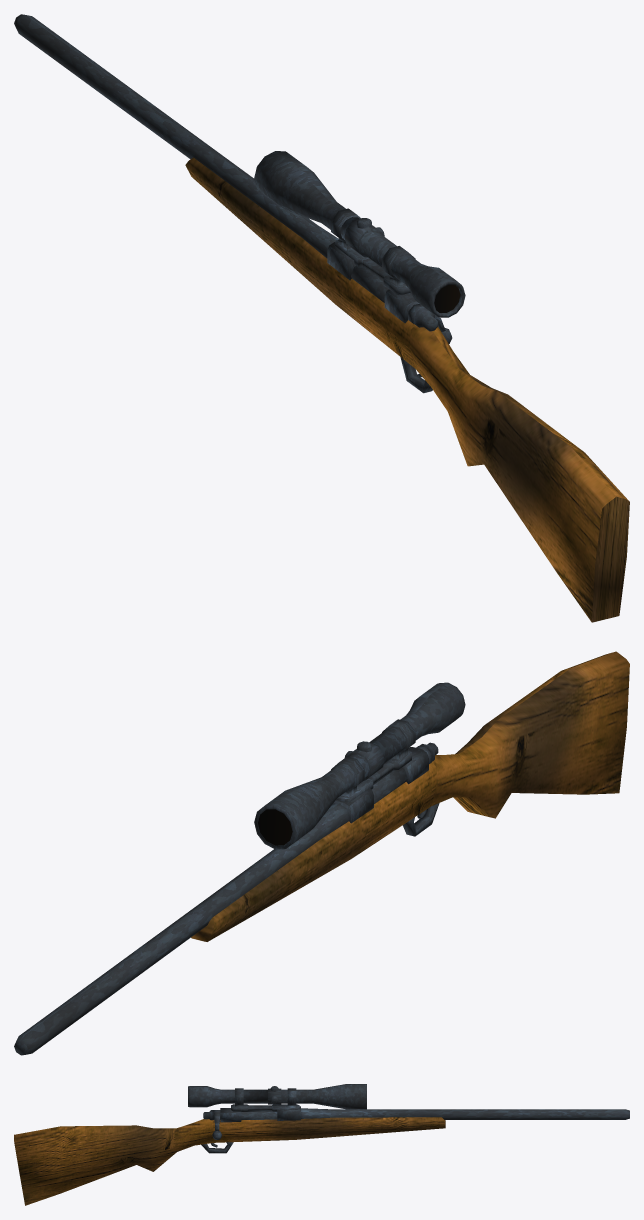
Rendered from Remington-m700.fbx.
3 renders of one model, top to bottom at view 1: azimuth 30°, elevation 25°; view 2: azimuth 150°, elevation 25°; view 3: azimuth 270°, elevation 25°, orthographic. The views are drawn at different scales.
Parts seen in each view (by area): view 1: Base, Barrel, Scope; view 2: Base, Barrel, Scope; view 3: Base, Barrel, Scope, Bolt.
Boxes of the visible parts, box(x1,y1,x2,y2) form: Base: box(185, 157, 629, 622); Barrel: box(14, 14, 419, 323); Scope: box(254, 151, 465, 317); Base: box(191, 651, 629, 941); Barrel: box(14, 747, 428, 1055); Scope: box(254, 682, 465, 849); Base: box(14, 1117, 445, 1205); Barrel: box(220, 1106, 629, 1122); Scope: box(188, 1084, 366, 1111); Bolt: box(203, 1110, 277, 1139).
Bounding box in the file's own units: 49.66 × 204 × 974.
Materials: 1 (1 with a texture image).
